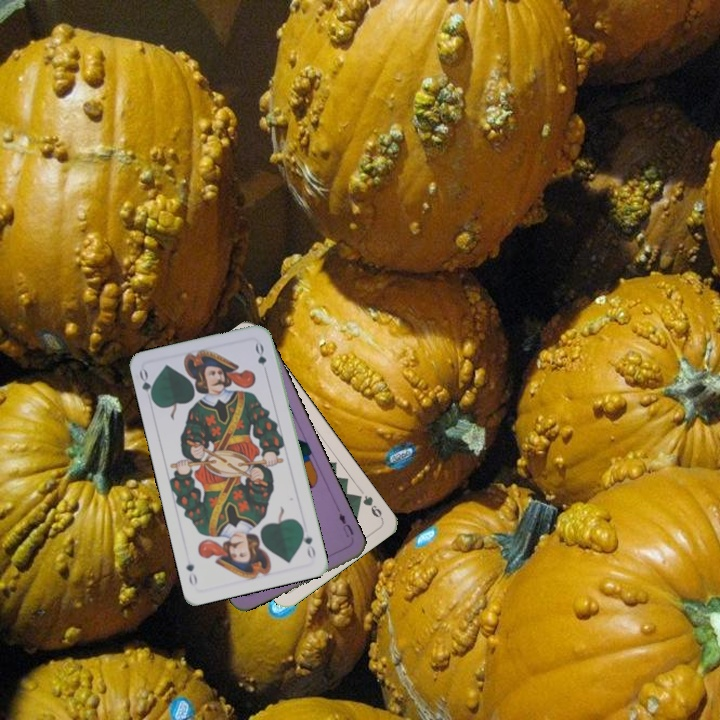EU: (334, 505, 356, 540)
G9: (352, 491, 385, 522)
GO: (135, 366, 157, 405), (297, 522, 318, 561)
